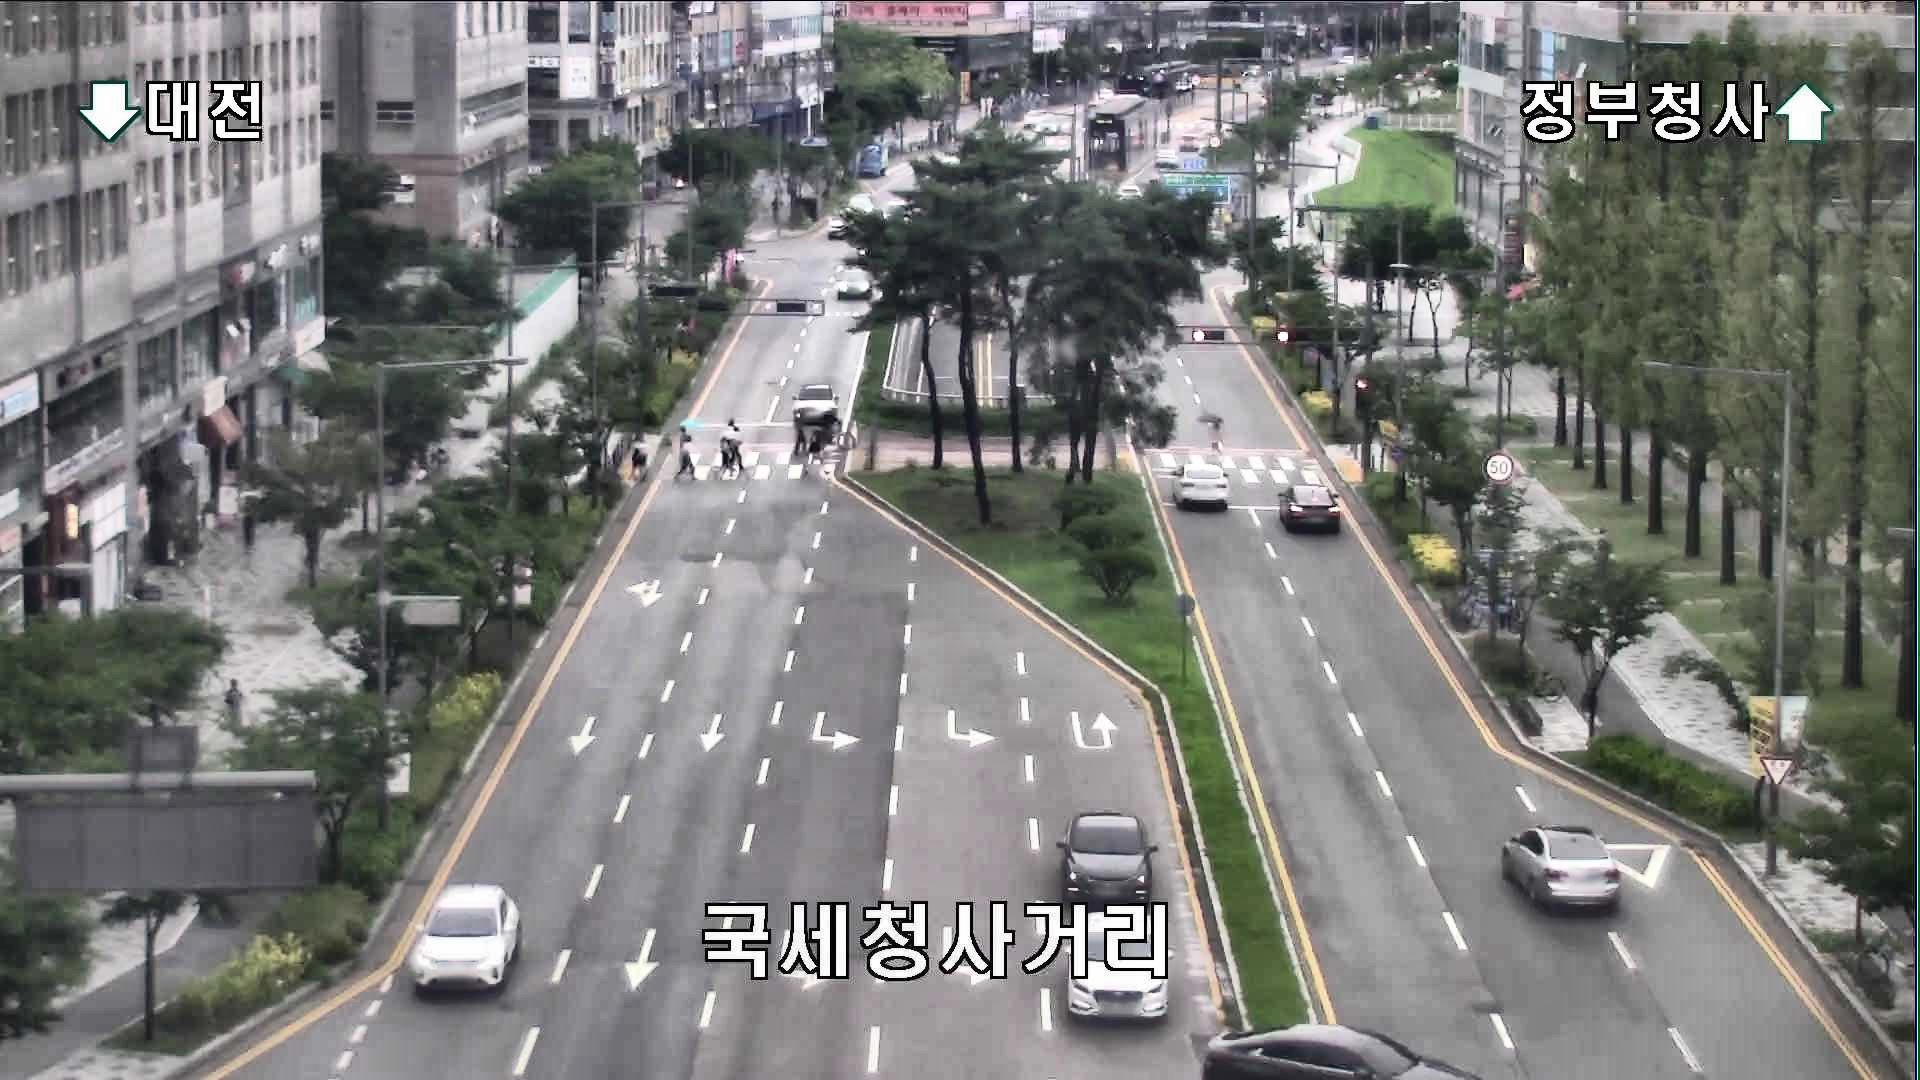crosswalk: (671, 436, 699, 483), (724, 429, 746, 471), (716, 435, 736, 479), (807, 426, 828, 465), (823, 410, 844, 444), (793, 411, 807, 458)
sidewalk: (222, 676, 247, 741)
um_crosswalk: (1196, 411, 1226, 464), (675, 417, 705, 465)
